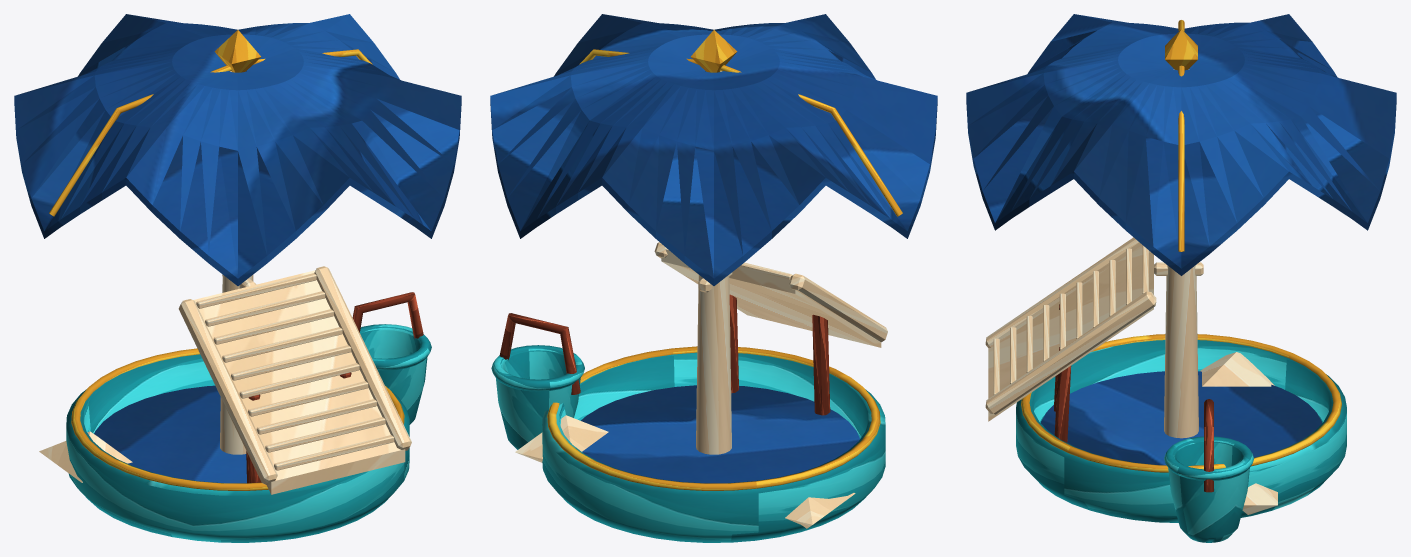
Rendered from 01_原神参考_赛璐璐.glb.
3 renders of one model, left to right at view 1: azimuth 30°, elevation 25°; view 2: azimuth 150°, elevation 25°; view 3: azimuth 270°, elevation 25°, orthographic. The views are drawn at different scales.
Visible parts, largest first — view 1: mushroom_wash; view 2: mushroom_wash; view 3: mushroom_wash.
Boxes of the visible parts, x1,y1,x2,y2 form: mushroom_wash: (14,14,461,542); mushroom_wash: (490,14,937,542); mushroom_wash: (966,14,1396,542).
Size of the model in its own units: 1.6 by 1.74 by 1.56.
Materials: 2 (2 with a texture image).
